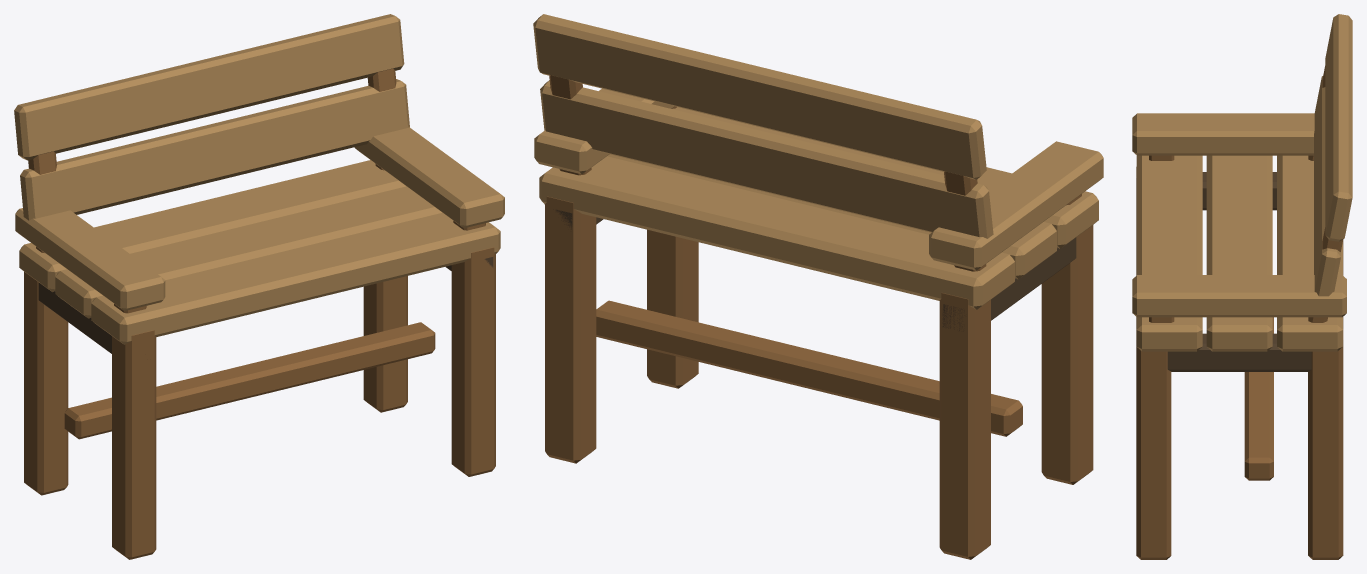
File: deco_bench.glb
3 views of the same model, side by side, from view 1: azimuth 30°, elevation 25°; view 2: azimuth 150°, elevation 25°; view 3: azimuth 270°, elevation 25° (orthographic). The views are drawn at different scales.
Visible parts, largest first — view 1: deco_bench; view 2: deco_bench; view 3: deco_bench.
Part boxes in pixels (x1,y1,x2,y2): deco_bench: (14,14,504,559); deco_bench: (533,14,1103,559); deco_bench: (1132,14,1352,559).
Bounding box in the file's own units: 1.11 × 1.05 × 0.5639.
